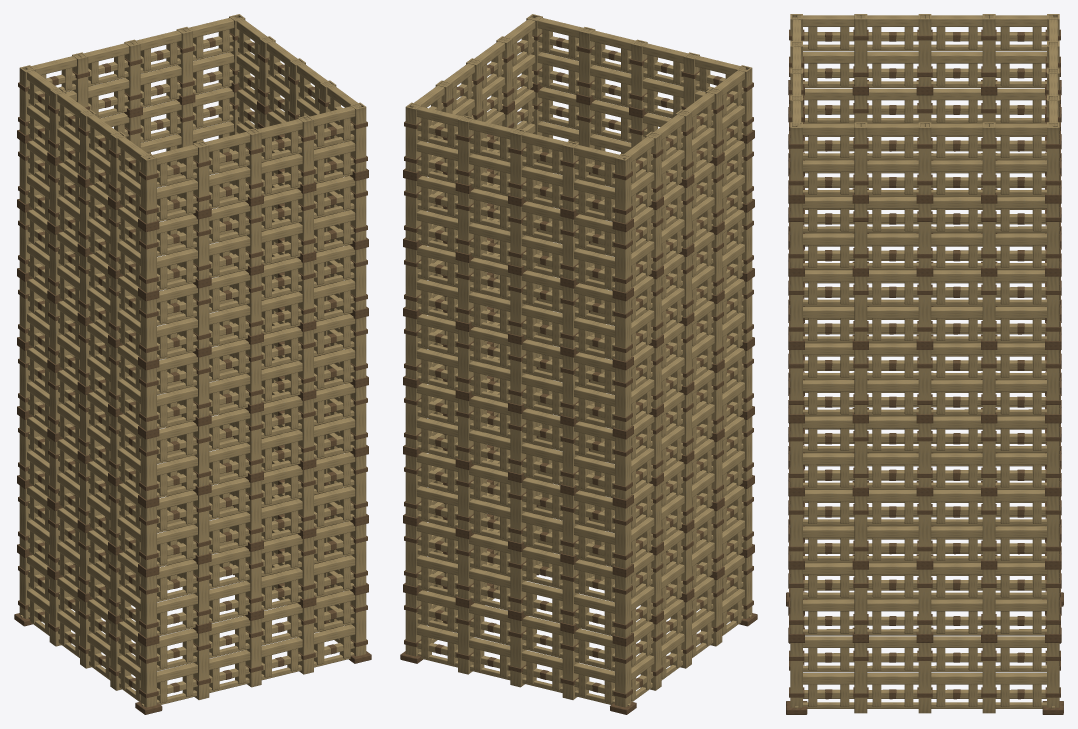
3 renders of one model, left to right at view 1: azimuth 30°, elevation 25°; view 2: azimuth 150°, elevation 25°; view 3: azimuth 270°, elevation 25°, orthographic. The views are drawn at different scales.
Parts seen in each view (by area): view 1: Tier 7 side 0 post 0, Tier 0 side 0 post 0, Tier 5 side 0 post 0, Tier 1 side 0 post 0, Tier 4 side 0 post 0, Tier 2 side 0 post 0, Tier 3 side 0 post 0, Tier 6 side 0 post 0, Tier 0 side 0 post 1, Tier 7 side 0 post 1, Tier 7 side 1 post 0, Tier 0 side 0 post 2 (+39 smaller); view 2: Tier 7 side 3 post 0, Tier 0 side 3 post 0, Tier 1 side 3 post 0, Tier 5 side 3 post 0, Tier 2 side 3 post 0, Tier 6 side 3 post 0, Tier 3 side 3 post 0, Tier 4 side 3 post 0, Tier 0 side 2 post 3, Tier 7 side 2 post 3, Tier 7 side 2 post 0, Tier 0 side 2 post 2 (+39 smaller); view 3: Tier 0 side 1 post 1, Tier 0 side 1 post 3, Tier 7 side 3 post 1, Tier 7 side 3 post 3, Tier 0 side 1 post 2, Tier 7 side 3 post 2, Tier 7 side 1 post 3, Tier 7 side 1 post 1, Tier 7 side 1 post 2, Tier 7 side 1 post 0, Tier 7 side 2 post 0, Tier 2 side 1 post 1 (+107 smaller).
Part boxes in pixels (box(x1,y1,x2,y2)): Tier 7 side 0 post 0: box(140, 153, 156, 223); Tier 0 side 0 post 0: box(140, 643, 156, 707); Tier 5 side 0 post 0: box(140, 298, 156, 361); Tier 1 side 0 post 0: box(140, 574, 156, 637); Tier 4 side 0 post 0: box(140, 367, 156, 430); Tier 2 side 0 post 0: box(140, 505, 156, 568); Tier 3 side 0 post 0: box(140, 436, 156, 499); Tier 6 side 0 post 0: box(140, 229, 156, 292); Tier 0 side 0 post 1: box(193, 631, 209, 699); Tier 7 side 0 post 1: box(193, 141, 209, 210); Tier 7 side 1 post 0: box(350, 102, 366, 172); Tier 0 side 0 post 2: box(245, 618, 261, 687); Tier 7 side 3 post 0: box(615, 153, 631, 223); Tier 0 side 3 post 0: box(615, 643, 631, 707); Tier 1 side 3 post 0: box(615, 574, 631, 637); Tier 5 side 3 post 0: box(615, 298, 631, 361); Tier 2 side 3 post 0: box(615, 505, 631, 568); Tier 6 side 3 post 0: box(615, 229, 631, 292); Tier 3 side 3 post 0: box(615, 436, 631, 499); Tier 4 side 3 post 0: box(615, 367, 631, 430); Tier 0 side 2 post 3: box(562, 631, 578, 699); Tier 7 side 2 post 3: box(562, 141, 578, 210); Tier 7 side 2 post 0: box(405, 102, 421, 172); Tier 0 side 2 post 2: box(510, 618, 526, 687); Tier 0 side 1 post 1: box(854, 643, 867, 713); Tier 0 side 1 post 3: box(982, 643, 995, 713); Tier 7 side 3 post 1: box(982, 14, 995, 86); Tier 7 side 3 post 3: box(854, 14, 867, 86); Tier 0 side 1 post 2: box(918, 643, 931, 713); Tier 7 side 3 post 2: box(918, 14, 931, 86); Tier 7 side 1 post 3: box(982, 122, 995, 194); Tier 7 side 1 post 1: box(854, 122, 867, 194); Tier 7 side 1 post 2: box(918, 122, 931, 194); Tier 7 side 1 post 0: box(790, 122, 802, 194); Tier 7 side 2 post 0: box(1047, 122, 1059, 194); Tier 2 side 1 post 1: box(854, 496, 867, 560).
Bounding box in the file's own units: 1.95 × 4.53 × 1.95.
Materials: 2 (2 with a texture image).
